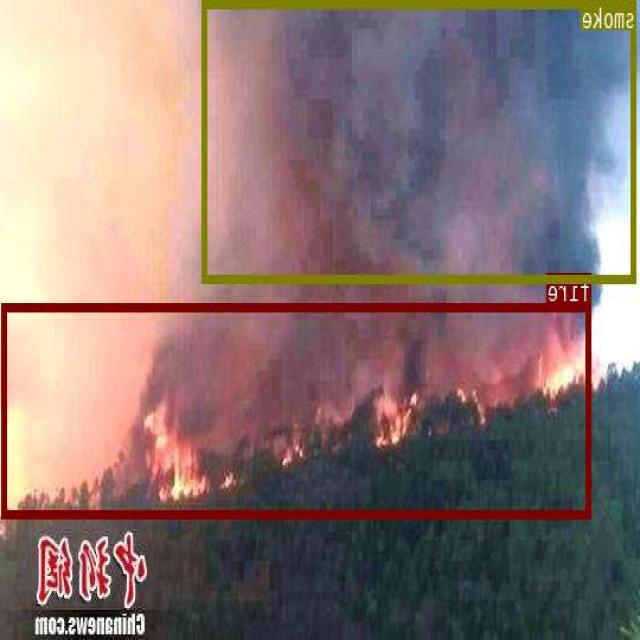fire: (4, 301, 592, 516)
smoke: (204, 0, 637, 282)
